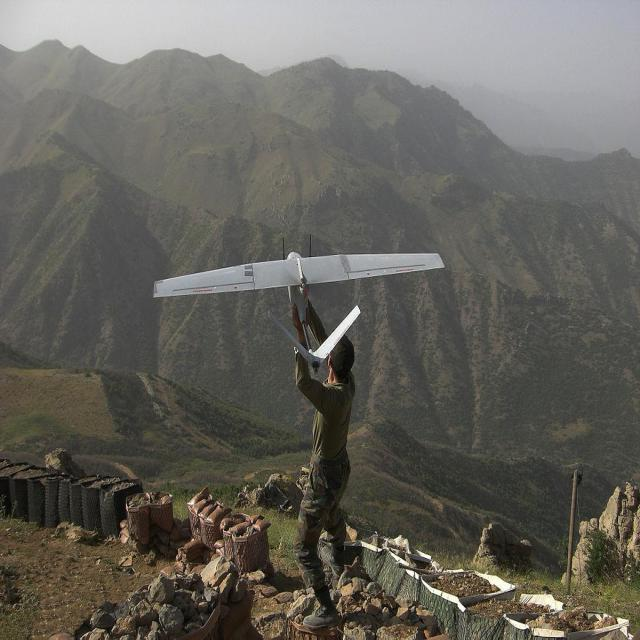iha: (144, 216, 440, 348)
